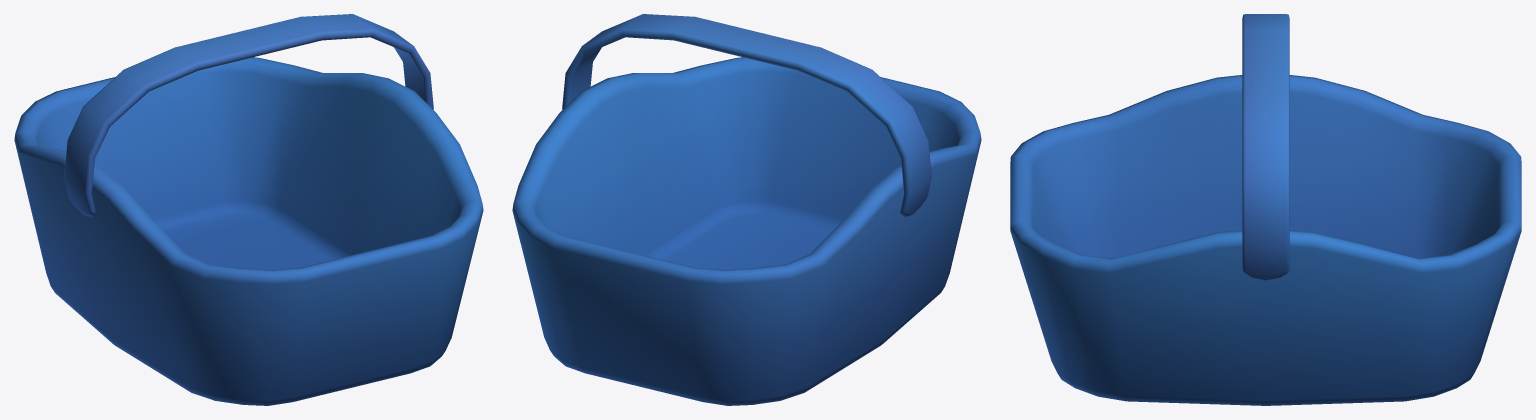
The model's file is basket_blue_smile.fbx.
The picture shows the model from 3 angles, left to right: view 1: azimuth 30°, elevation 25°; view 2: azimuth 150°, elevation 25°; view 3: azimuth 270°, elevation 25°; orthographic projection.
Parts seen in each view (by area): view 1: basket_blue_smile; view 2: basket_blue_smile; view 3: basket_blue_smile.
Part boxes in pixels (<box>): basket_blue_smile: <box>14,14,483,405</box>; basket_blue_smile: <box>512,14,981,405</box>; basket_blue_smile: <box>1010,14,1521,405</box>.
Bounding box in the file's own units: 87.86 × 109 × 66.41.
Materials: 1 (1 with a texture image).
